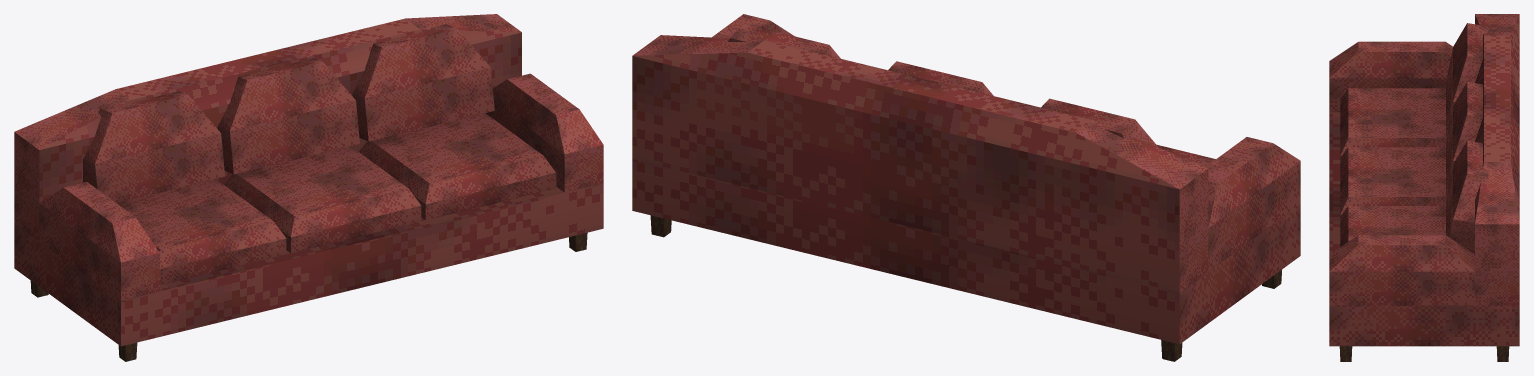
Rendered from sofa_red.glb.
3 renders of one model, left to right at view 1: azimuth 30°, elevation 25°; view 2: azimuth 150°, elevation 25°; view 3: azimuth 270°, elevation 25°, orthographic. The views are drawn at different scales.
Visible parts, largest first — view 1: sofa_red; view 2: sofa_red; view 3: sofa_red.
Part boxes in pixels (x1,y1,x2,y2): sofa_red: (14,14,603,361); sofa_red: (632,14,1300,361); sofa_red: (1329,14,1519,361).
Size of the model in its own units: 2.22 by 0.8029 by 0.85.
1 material, 1 textured.
